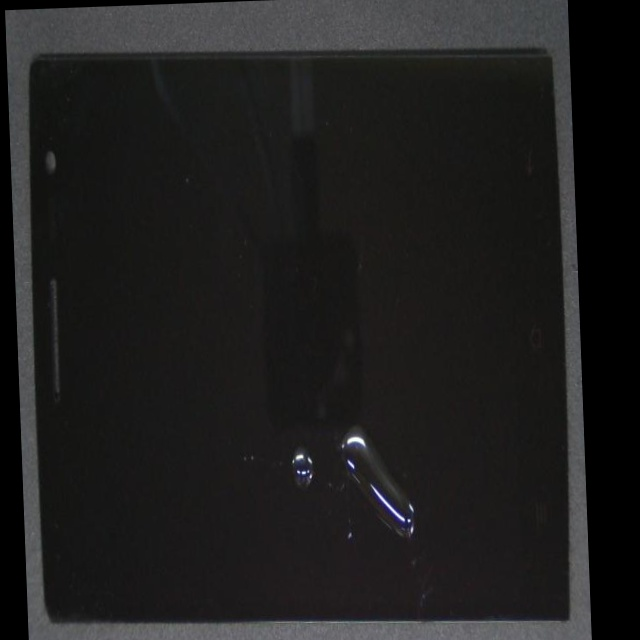oil: (247, 271, 593, 640), (157, 207, 439, 640)
